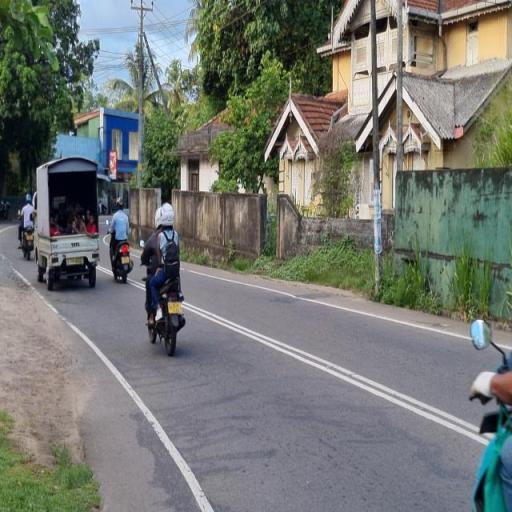double_white_line: (188, 294, 482, 446)
